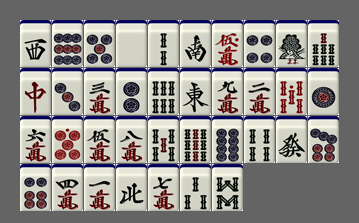0m: (212, 20, 243, 67)
0p: (52, 116, 83, 163)
0s: (276, 68, 307, 115)
1m: (84, 164, 115, 211)
1p: (308, 68, 339, 115)
1s: (276, 20, 307, 67)
1z: (180, 68, 211, 115)
2m: (244, 68, 275, 115)
2p: (116, 68, 147, 115)
2s: (148, 20, 179, 67)
2z: (180, 20, 211, 67)
3m: (84, 68, 115, 115)
3p: (52, 68, 83, 115)
3s: (180, 164, 211, 211)
3z: (20, 20, 51, 67)
4m: (52, 164, 83, 211)
4p: (244, 20, 275, 67)
4s: (244, 116, 275, 163)
4z: (116, 164, 147, 211)
5m: (84, 116, 115, 163)
5p: (84, 20, 115, 67)
5s: (148, 116, 179, 163)
5z: (116, 20, 147, 67)
6m: (20, 116, 51, 163)
6p: (20, 164, 51, 211)
6s: (148, 68, 179, 115)
6z: (276, 116, 307, 163)
7m: (148, 164, 179, 211)
7p: (308, 116, 339, 163)
7s: (308, 20, 339, 67)
7z: (20, 68, 51, 115)
8m: (116, 116, 147, 163)
8p: (212, 116, 243, 163)
8s: (212, 164, 243, 211)
9m: (212, 68, 243, 115)
9p: (52, 20, 83, 67)
9s: (180, 116, 211, 163)
